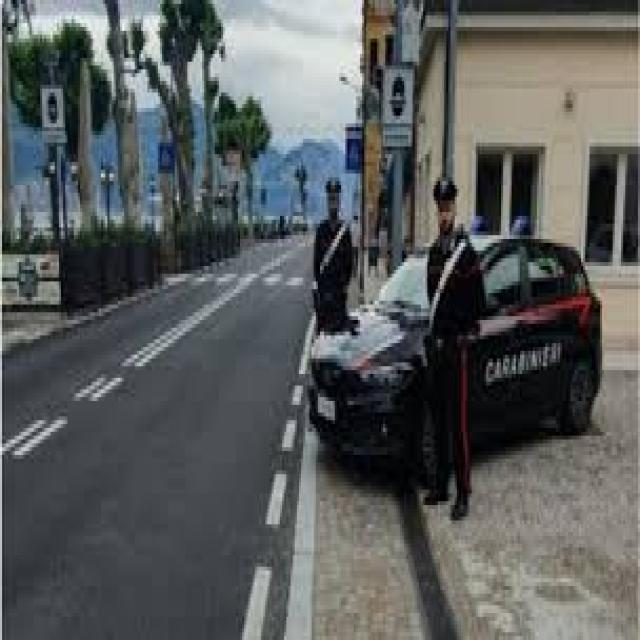Pedestrian crosswalk: (165, 262, 321, 294), (344, 126, 366, 173), (158, 138, 175, 174)
Person: (427, 170, 484, 521), (314, 170, 354, 338)
